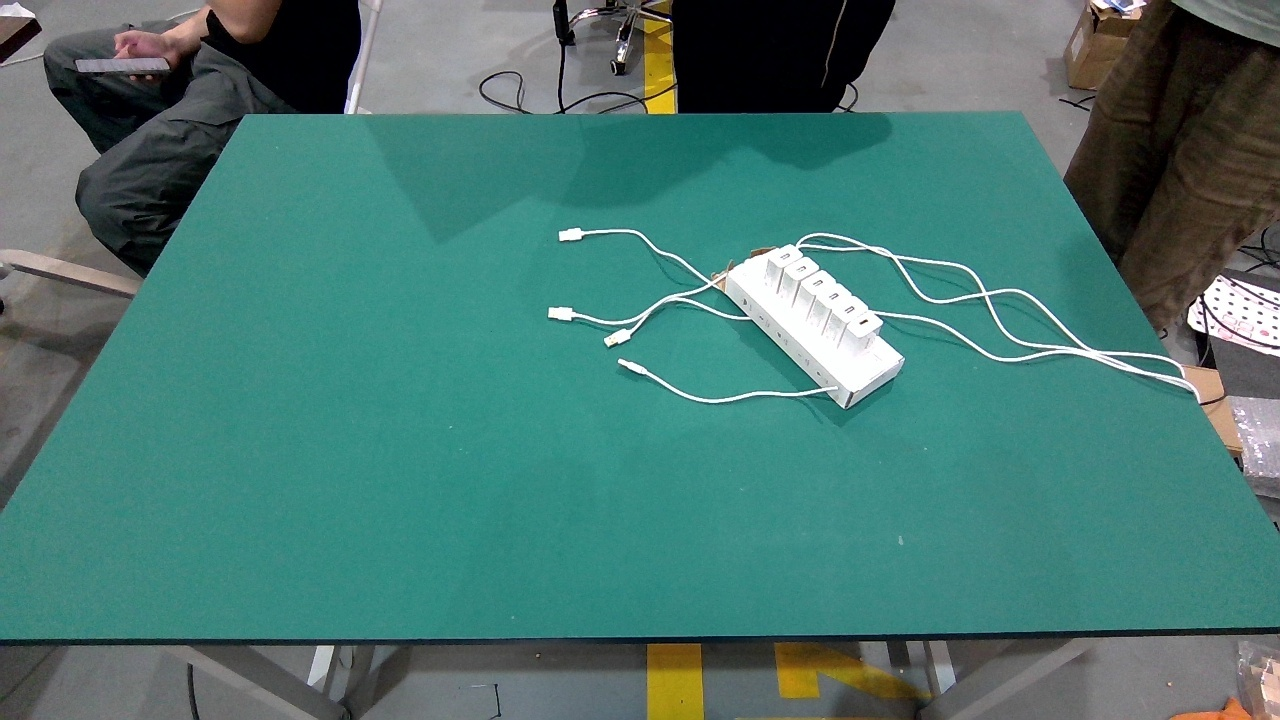usb_a_plug: (602, 323, 641, 350), (616, 356, 653, 378), (547, 305, 581, 322), (557, 227, 593, 242)
